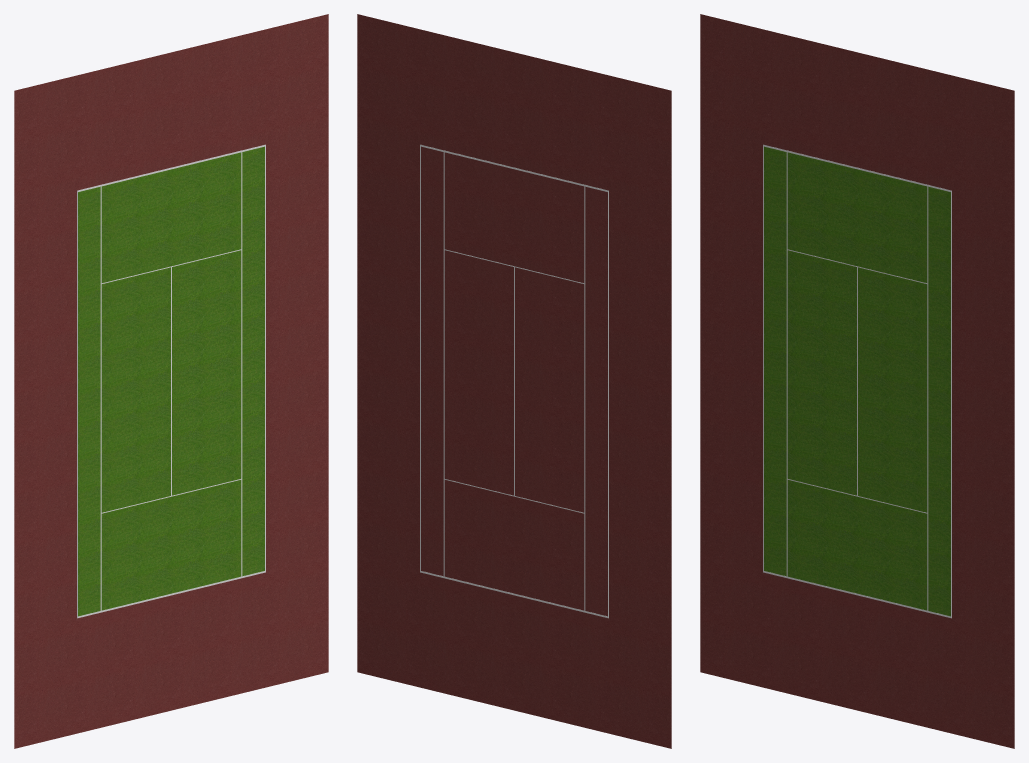
File: grdFinal1.glb
3 renders of one model, left to right at view 1: azimuth 30°, elevation 25°; view 2: azimuth 150°, elevation 25°; view 3: azimuth 330°, elevation 25°, orthographic.
Parts seen in each view (by area): view 1: Mesh_0, Mesh_1, Mesh_9, Mesh_8; view 2: Mesh_0, Mesh_8, Mesh_9; view 3: Mesh_0, Mesh_1, Mesh_8, Mesh_9.
Boxes of the visible parts, bbox=[...] form: Mesh_0: bbox=[14, 14, 328, 748]; Mesh_1: bbox=[78, 146, 264, 616]; Mesh_9: bbox=[100, 186, 101, 612]; Mesh_8: bbox=[241, 152, 242, 577]; Mesh_0: bbox=[357, 14, 671, 748]; Mesh_8: bbox=[443, 150, 444, 576]; Mesh_9: bbox=[584, 186, 585, 610]; Mesh_0: bbox=[700, 14, 1014, 748]; Mesh_1: bbox=[764, 146, 950, 616]; Mesh_8: bbox=[927, 186, 928, 612]; Mesh_9: bbox=[786, 152, 787, 576].
Size of the model in its own units: 18.29 by 36.57 by 0.00638.
4 materials, 2 textured.
